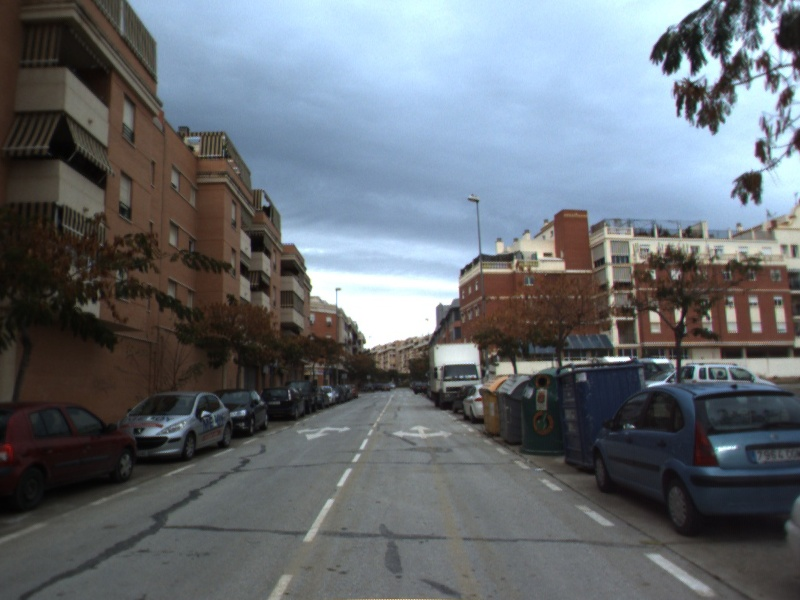STRAIGHT_LEFT_RIGHT: (390, 423, 455, 441)
